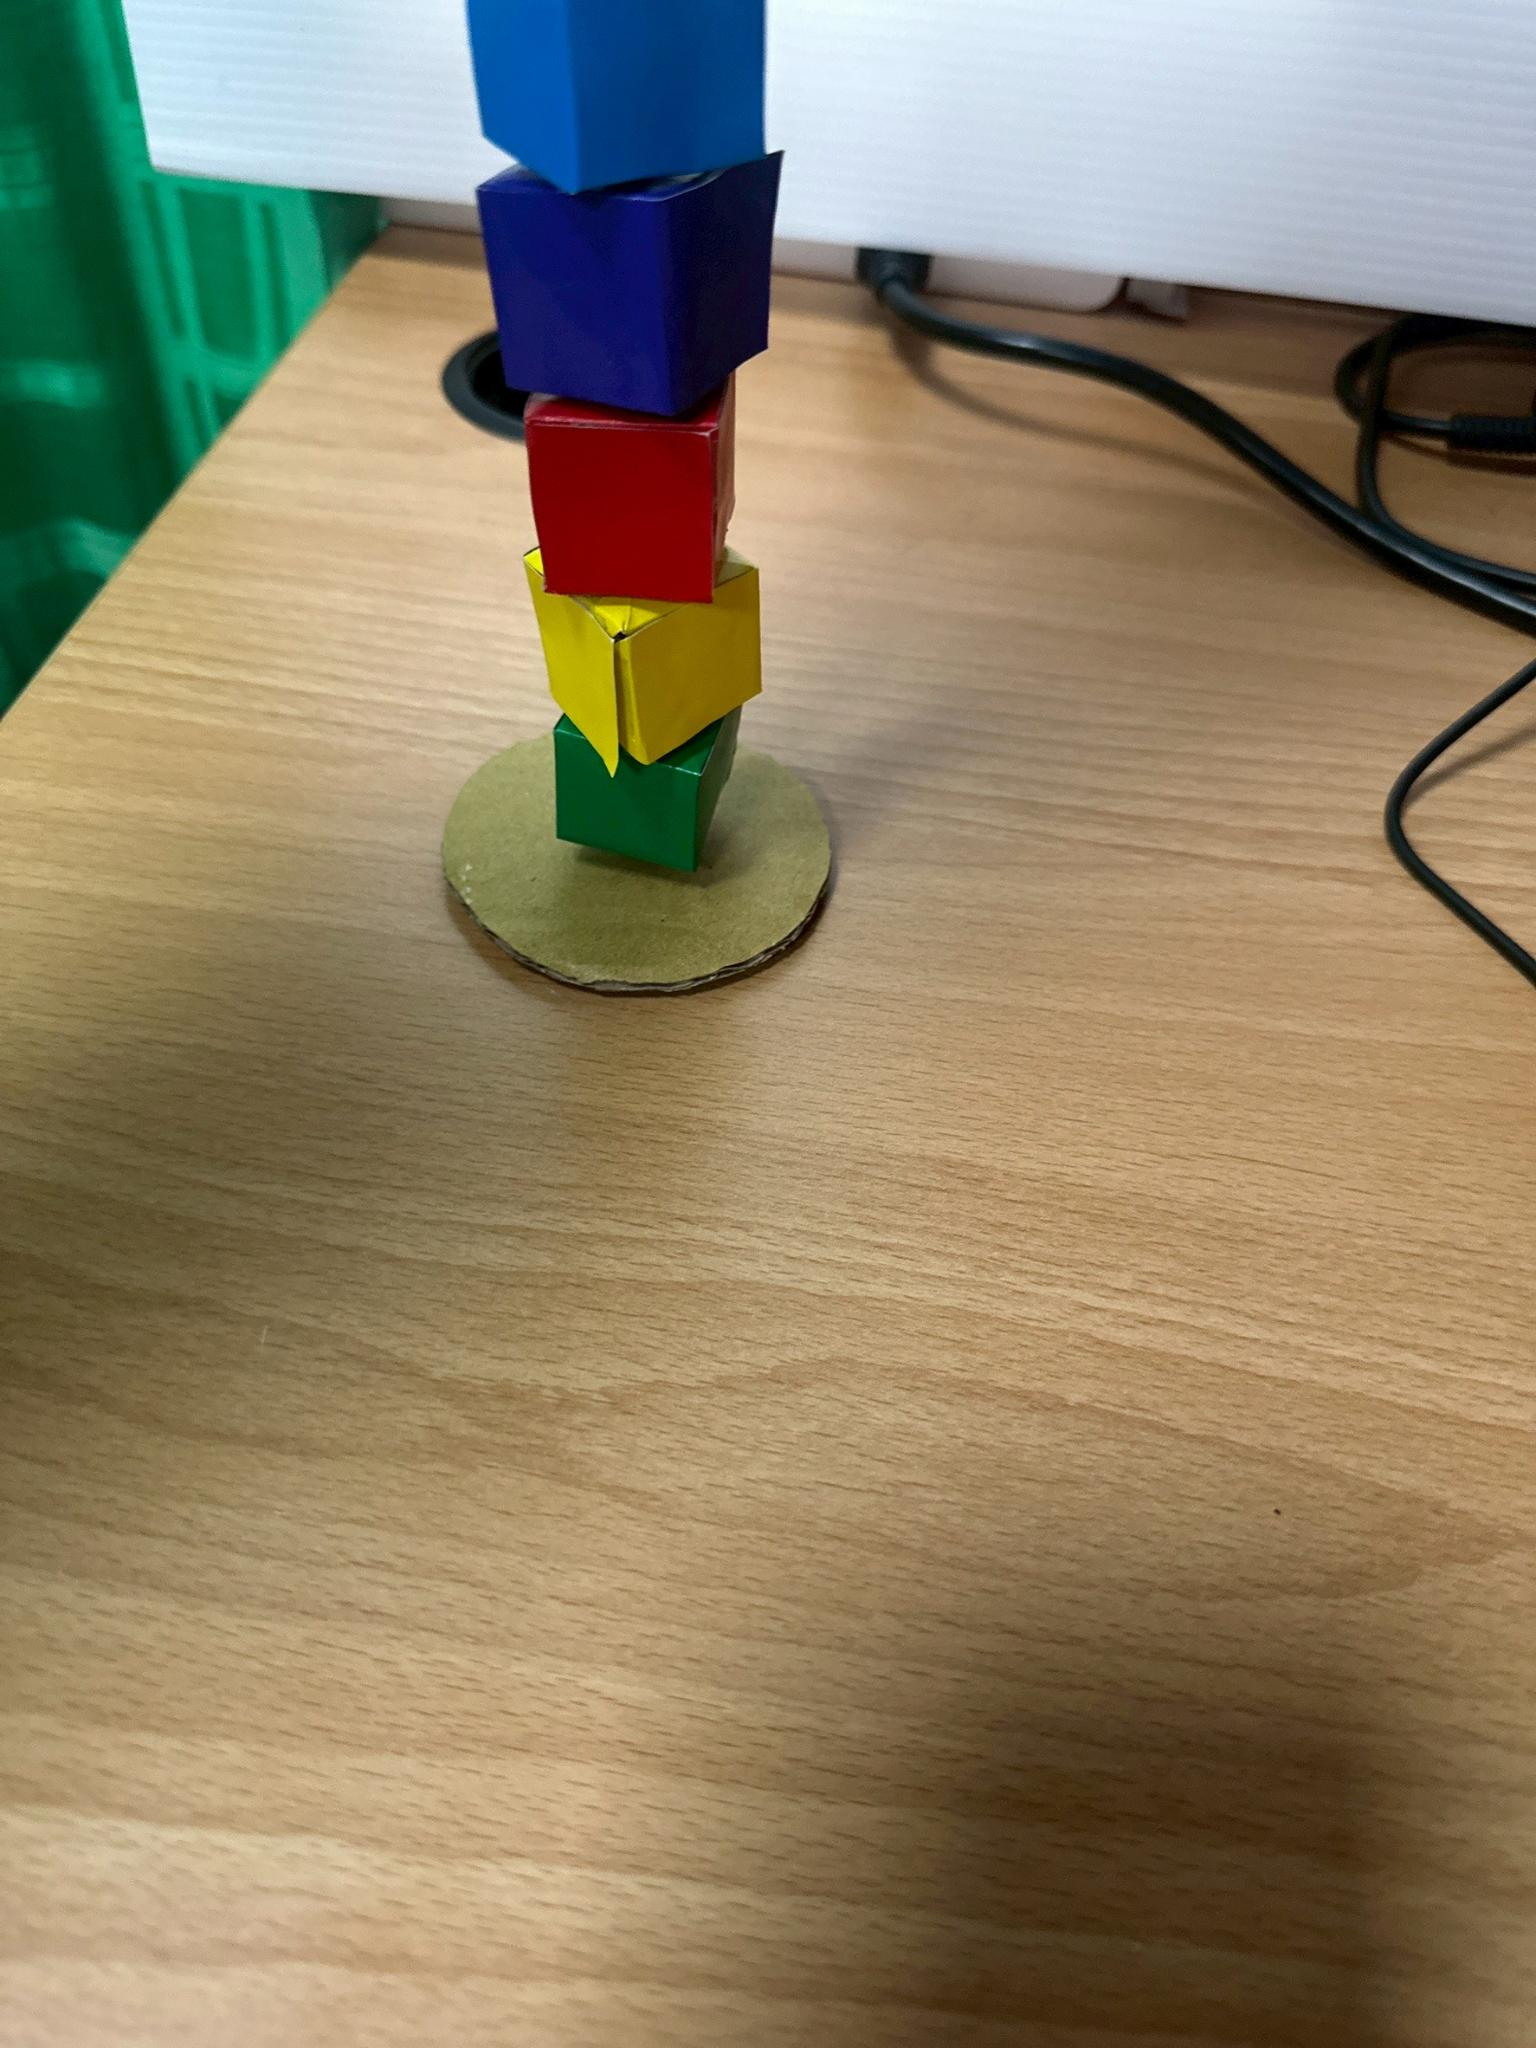base: (442, 735, 829, 987)
